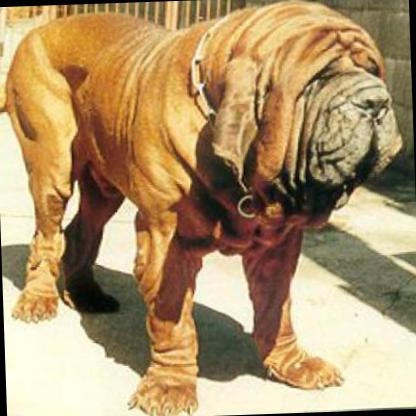bull_mastiff: (1, 0, 411, 416)
